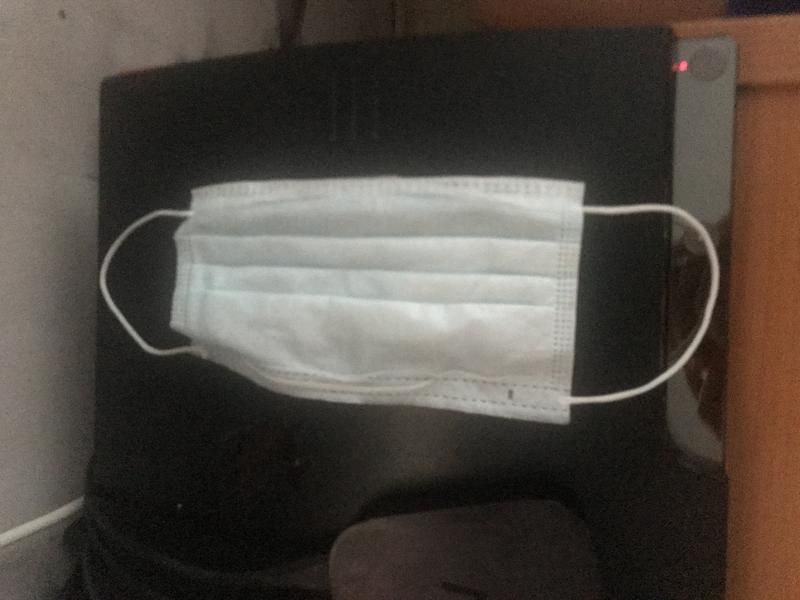medical_mask: (99, 175, 719, 426)
